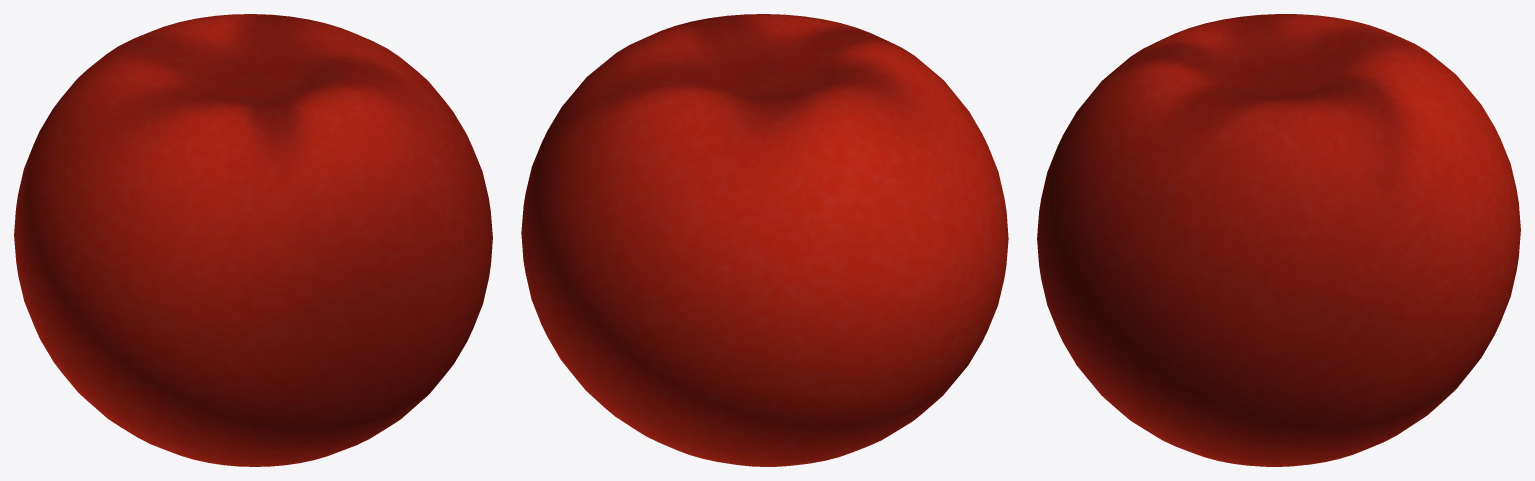
The model's file is tomato_02.obj.
3 views of the same model, side by side, from view 1: azimuth 30°, elevation 25°; view 2: azimuth 150°, elevation 25°; view 3: azimuth 270°, elevation 25° (orthographic).
Parts seen in each view (by area): view 1: tomato_02; view 2: tomato_02; view 3: tomato_02.
Part boxes in pixels (bbox=[...]): tomato_02: bbox=[14, 14, 492, 466]; tomato_02: bbox=[521, 14, 1008, 466]; tomato_02: bbox=[1037, 14, 1520, 466].
Size of the model in its own units: 3.62 by 3.18 by 3.62.
1 material, 1 textured.
